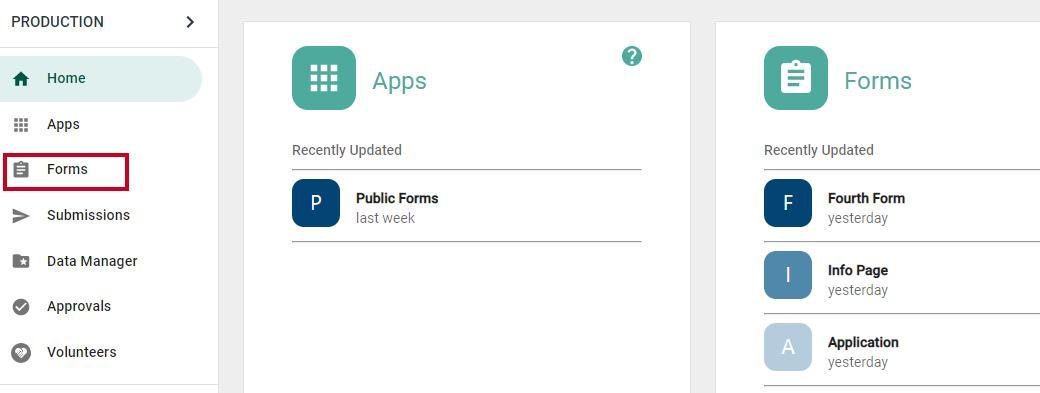icon: (304, 53, 346, 104), (779, 58, 818, 103), (6, 340, 34, 365), (179, 13, 204, 38), (618, 44, 643, 67), (9, 162, 34, 185), (11, 203, 32, 229), (11, 296, 33, 319), (10, 248, 30, 272), (13, 113, 34, 135), (15, 67, 32, 91)
label: (48, 204, 133, 226), (46, 254, 139, 272), (47, 343, 122, 362), (46, 297, 115, 316), (48, 69, 87, 89), (47, 161, 91, 175), (48, 116, 83, 133)
